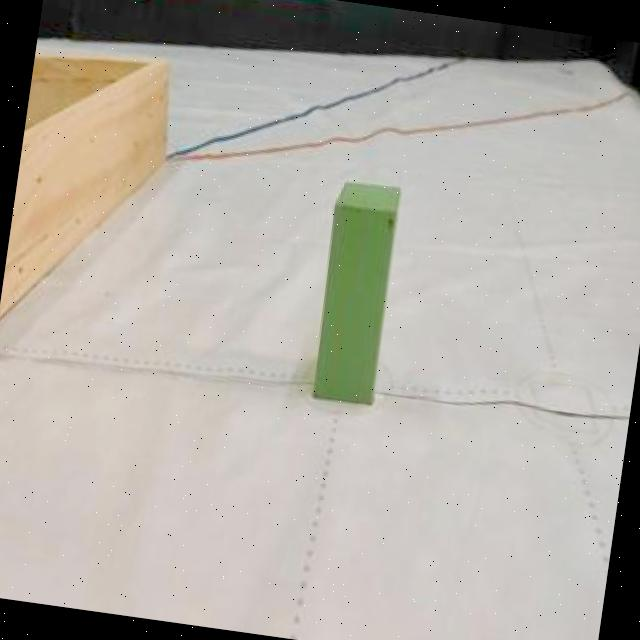greenbox: (304, 170, 406, 411)
